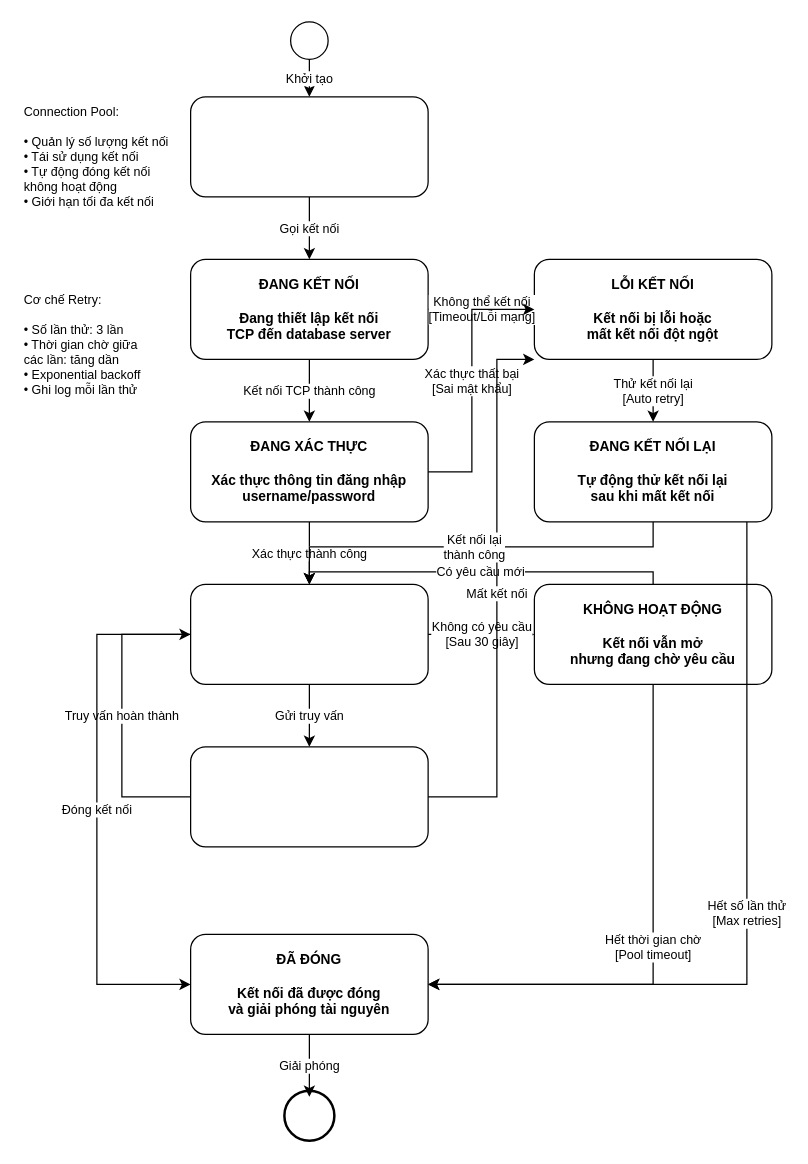
This 808x1164 diagram has some shape labels left out. Each missing label, with the centre of its shape:
"CHƯA KẾT NỐI Chưa thiết lập kết nối đến cơ sở dữ liệu" goes at (308,146).
"ĐANG THỰC THI Đang chạy truy vấn SQL hoặc thao tác dữ liệu" goes at (308,796).
"ĐÃ KẾT NỐI Kết nối thành công sẵn sàng thực thi truy vấn" goes at (308,633).
